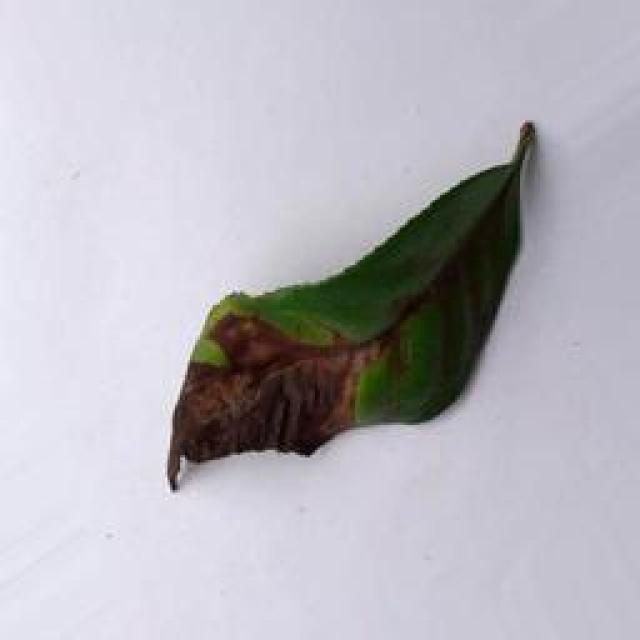Brown Blight: (135, 112, 551, 491)
